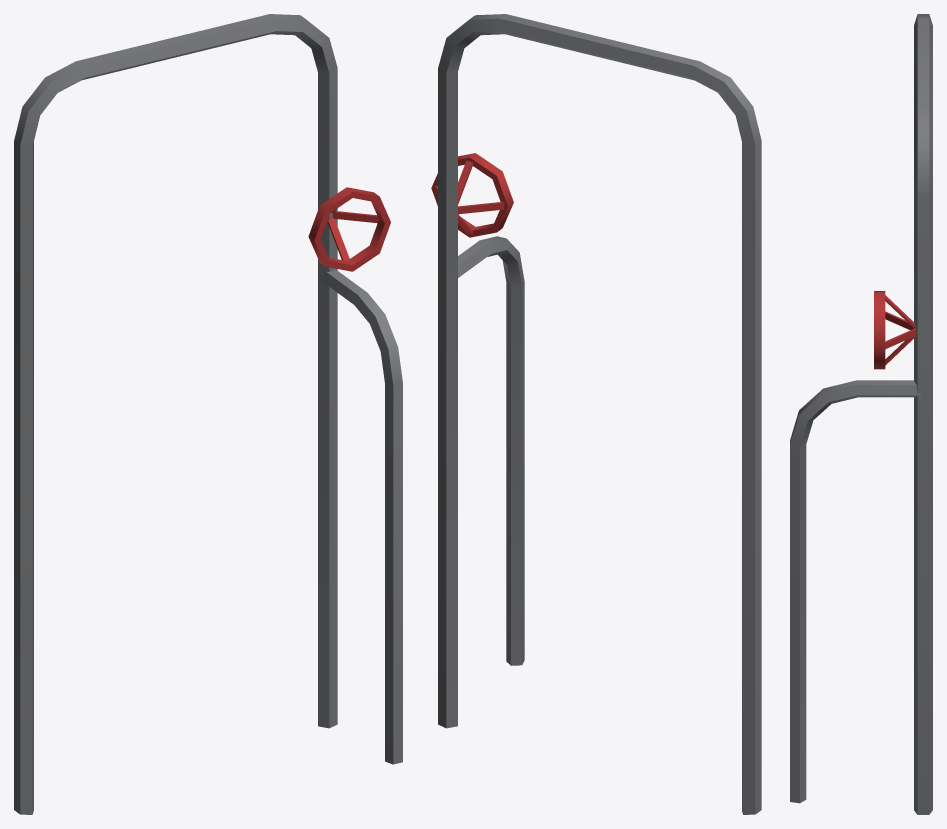
File: SM_pipe_05.fbx
3 renders of one model, left to right at view 1: azimuth 30°, elevation 25°; view 2: azimuth 150°, elevation 25°; view 3: azimuth 270°, elevation 25°, orthographic. The views are drawn at different scales.
Parts seen in each view (by area): view 1: Box046; view 2: Box046; view 3: Box046.
Boxes of the visible parts, left/top/right/bottom form: Box046: left=14, top=14, right=402, bottom=814; Box046: left=431, top=14, right=761, bottom=814; Box046: left=790, top=14, right=932, bottom=814.
Bounding box in the file's own units: 37.11 × 14.06 × 75.07.
